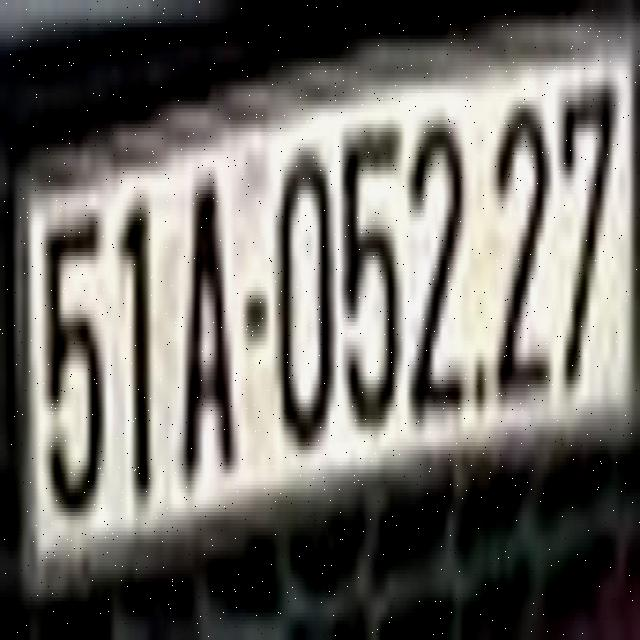0: (274, 122, 334, 460)
1: (117, 180, 159, 510)
2: (408, 103, 466, 421), (493, 91, 552, 402)
5: (41, 202, 107, 524), (341, 105, 402, 438)
7: (560, 70, 618, 396)
A: (179, 153, 238, 487)
